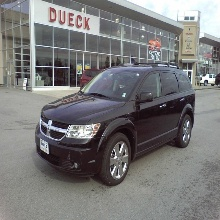no damage: (35, 63, 195, 185)
